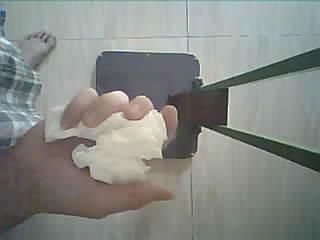paper: (45, 96, 168, 184)
